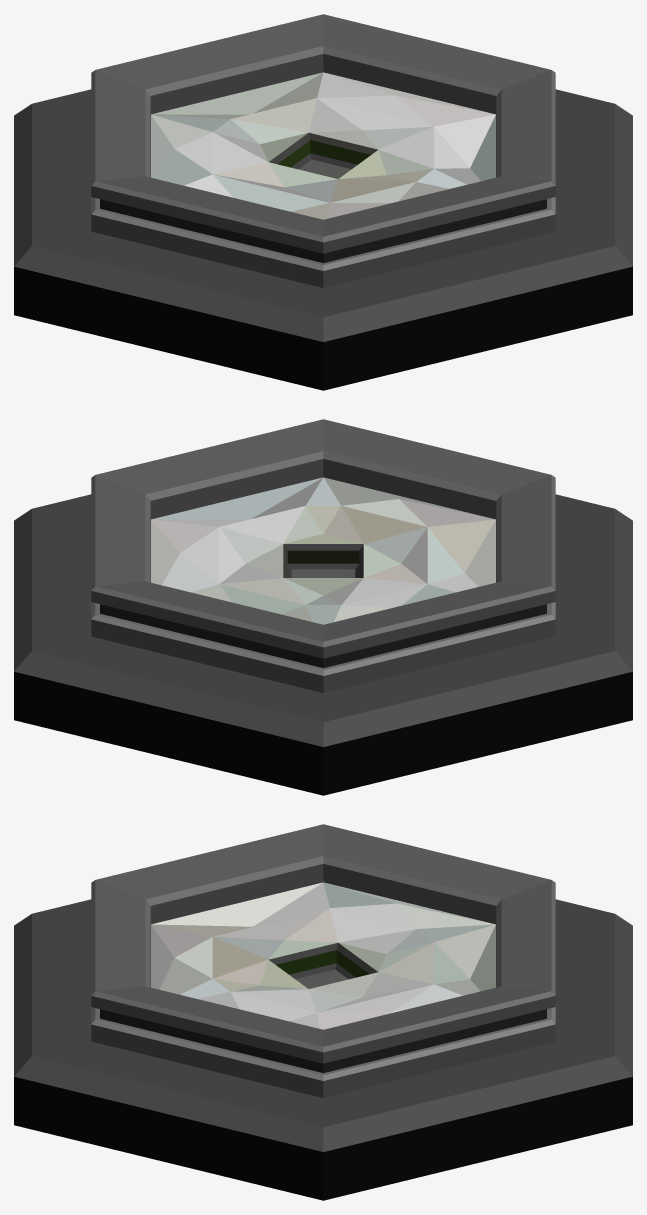
File: hex_snowTile.fbx
The picture shows the model from 3 angles, top to bottom: view 1: azimuth 30°, elevation 25°; view 2: azimuth 150°, elevation 25°; view 3: azimuth 270°, elevation 25°; orthographic projection.
Parts seen in each view (by area): view 1: hex_snowTile; view 2: hex_snowTile; view 3: hex_snowTile.
Part boxes in pixels (bbox=[...]): hex_snowTile: bbox=[14, 14, 632, 390]; hex_snowTile: bbox=[14, 419, 632, 795]; hex_snowTile: bbox=[14, 824, 632, 1200].
Size of the model in its own units: 2 by 0.3529 by 1.73.
